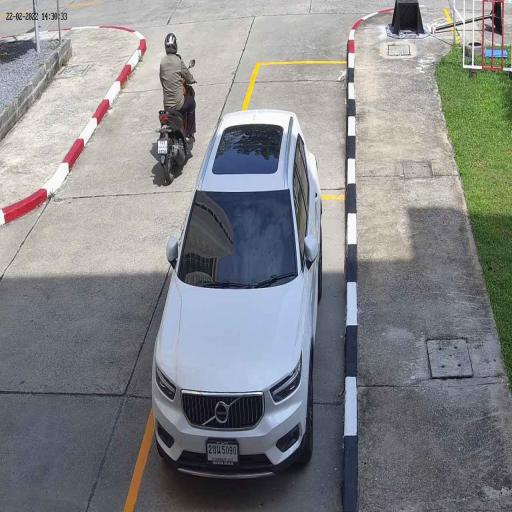car: (150, 108, 324, 485)
motorcycle: (155, 108, 197, 186)
